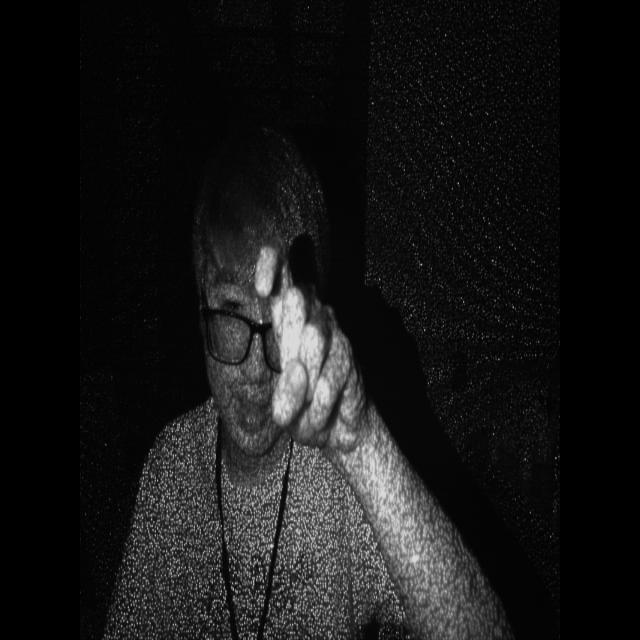X: (242, 219, 380, 481)
